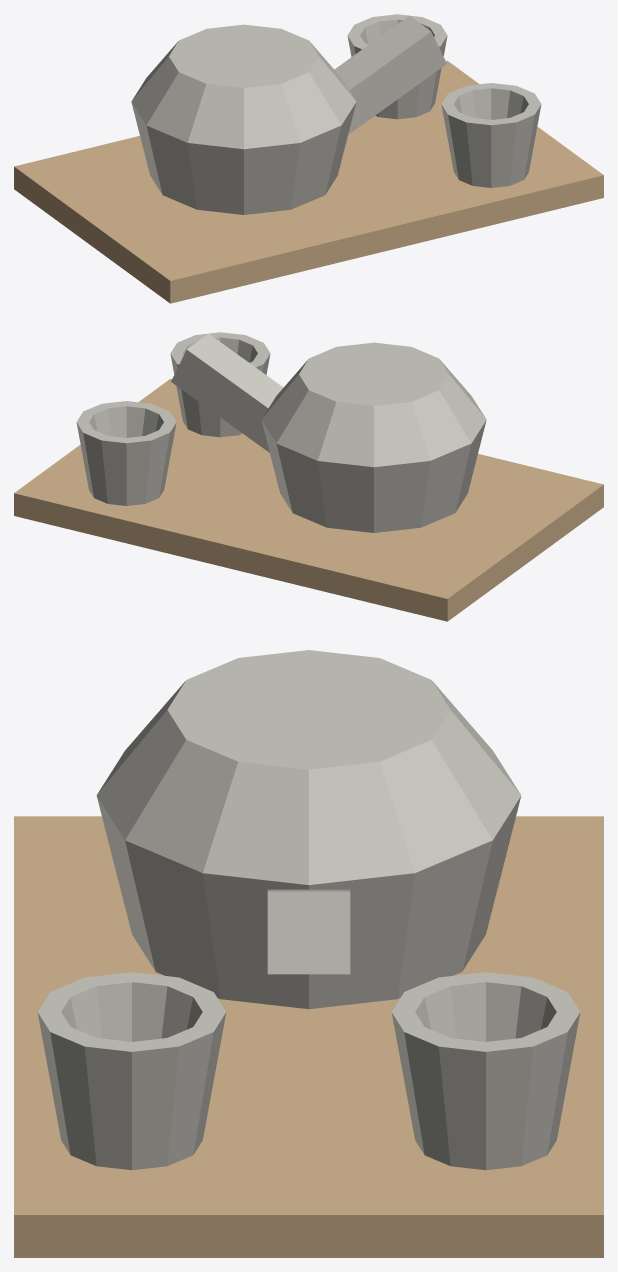
Rendered from feudal-japan-castle-town-tea-set-e68e208e__26437.glb.
The picture shows the model from 3 angles, top to bottom: view 1: azimuth 30°, elevation 25°; view 2: azimuth 150°, elevation 25°; view 3: azimuth 270°, elevation 25°; orthographic projection. The views are drawn at different scales.
Parts seen in each view (by area): view 1: tea-set; view 2: tea-set; view 3: tea-set.
Part boxes in pixels (x1,y1,x2,y2): tea-set: (14,14,603,303); tea-set: (14,332,603,621); tea-set: (14,650,603,1257).
Bounding box in the file's own units: 0.8 × 0.27 × 0.5.
